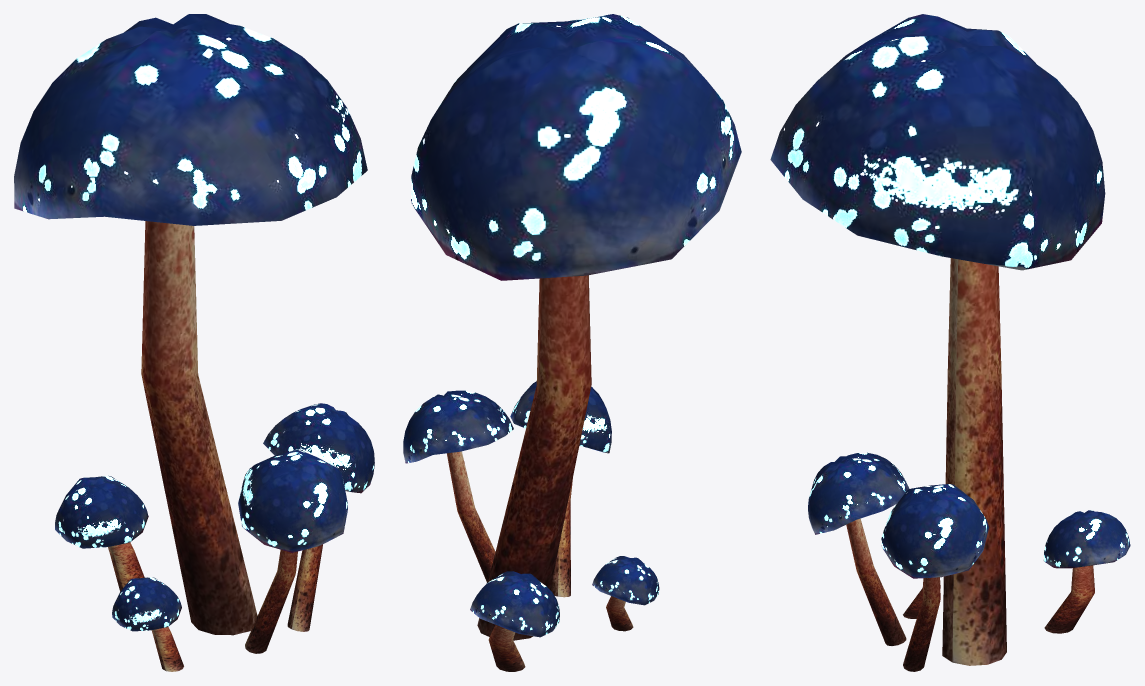
The model's file is glow_mushroom.glb.
3 renders of one model, left to right at view 1: azimuth 30°, elevation 25°; view 2: azimuth 150°, elevation 25°; view 3: azimuth 270°, elevation 25°, orthographic. The views are drawn at different scales.
Visible parts, largest first — view 1: glow_mushroom; view 2: glow_mushroom; view 3: glow_mushroom.
Part boxes in pixels (x1,y1,x2,y2): glow_mushroom: (14,14,374,671); glow_mushroom: (403,14,741,671); glow_mushroom: (770,14,1130,671).
Size of the model in its own units: 0.1812 by 0.34 by 0.1867.
Materials: 1 (1 with a texture image).
